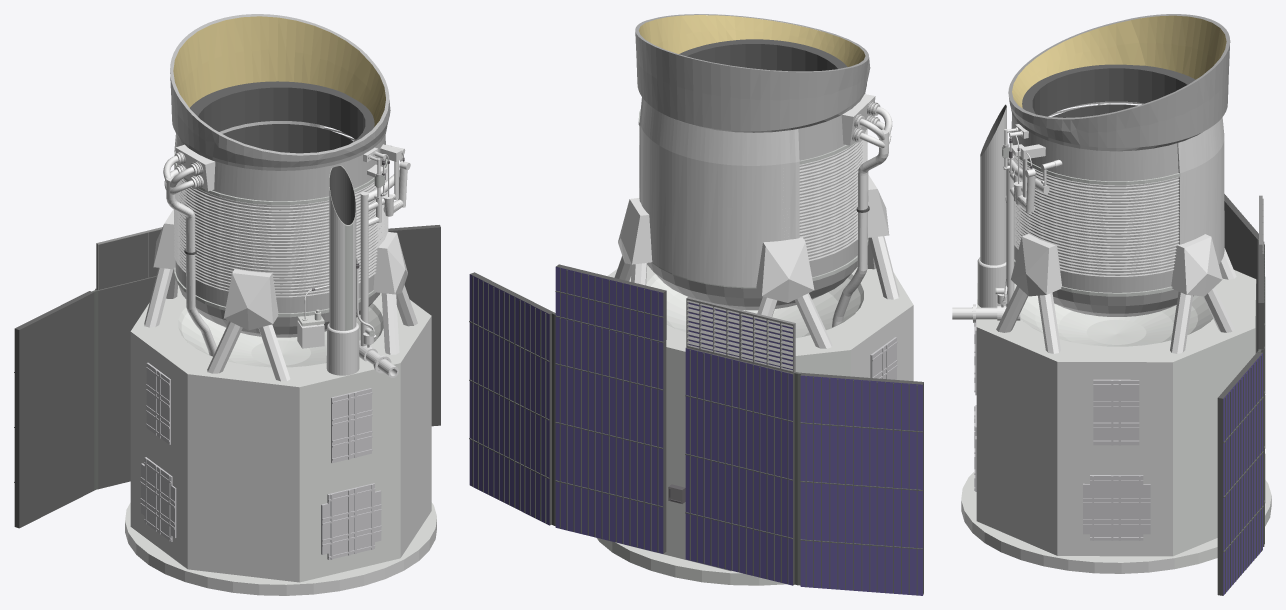
File: wide-field-infrared-explorer-wire.glb
The picture shows the model from 3 angles, left to right: view 1: azimuth 30°, elevation 25°; view 2: azimuth 150°, elevation 25°; view 3: azimuth 270°, elevation 25°; orthographic projection. The views are drawn at different scales.
Parts seen in each view (by area): view 1: <LWODefault>; view 2: <LWODefault>; view 3: <LWODefault>.
Part boxes in pixels (x1,y1,x2,y2): <LWODefault>: (14,14,440,595); <LWODefault>: (469,14,923,595); <LWODefault>: (952,14,1271,595).
Size of the model in its own units: 32.5 by 34.32 by 21.23.
1 material, 1 textured.
